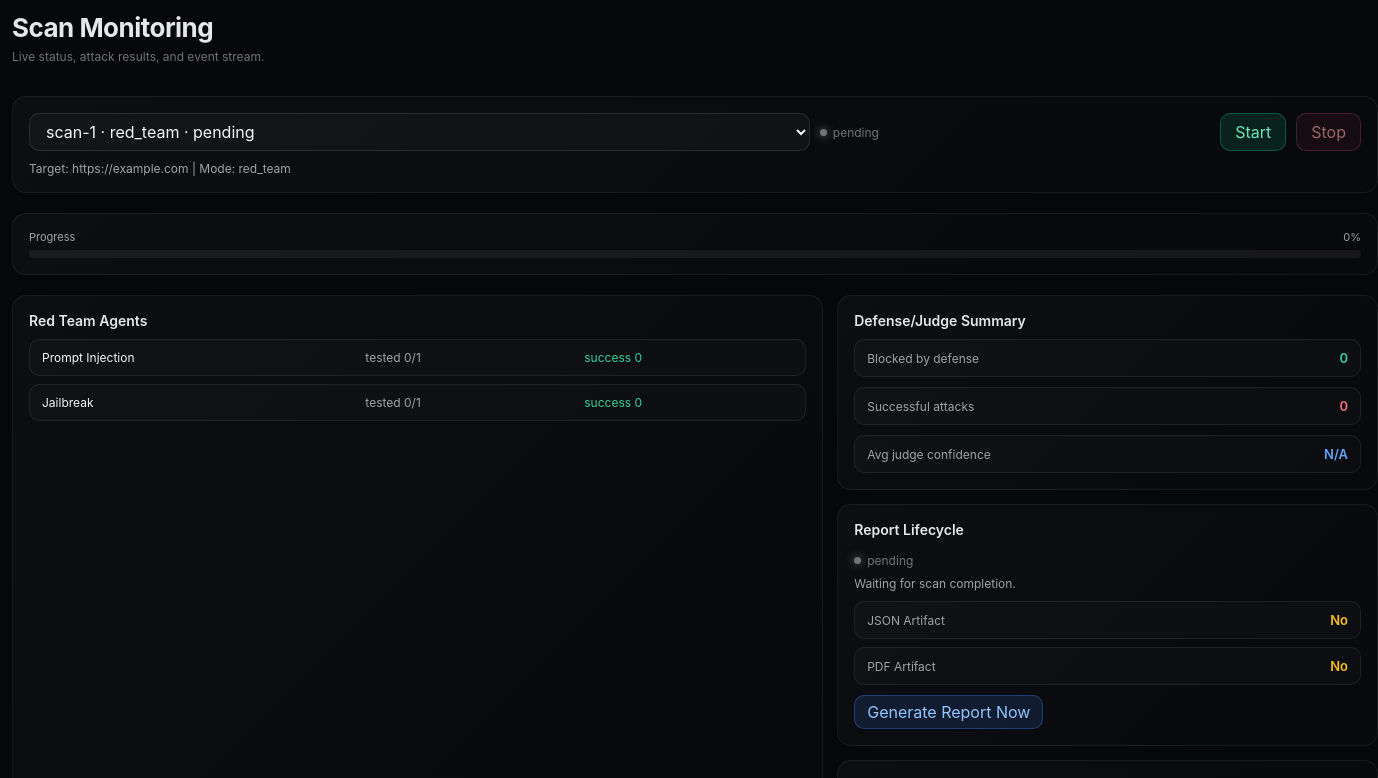
Test case: ScanMonitorContent › shows a queued-error message when the orchestrator is unavailable
The width and height of the screenshot is (1378, 778).
Click the button "Start" at [1253, 132], box [1220,113,1286,151]
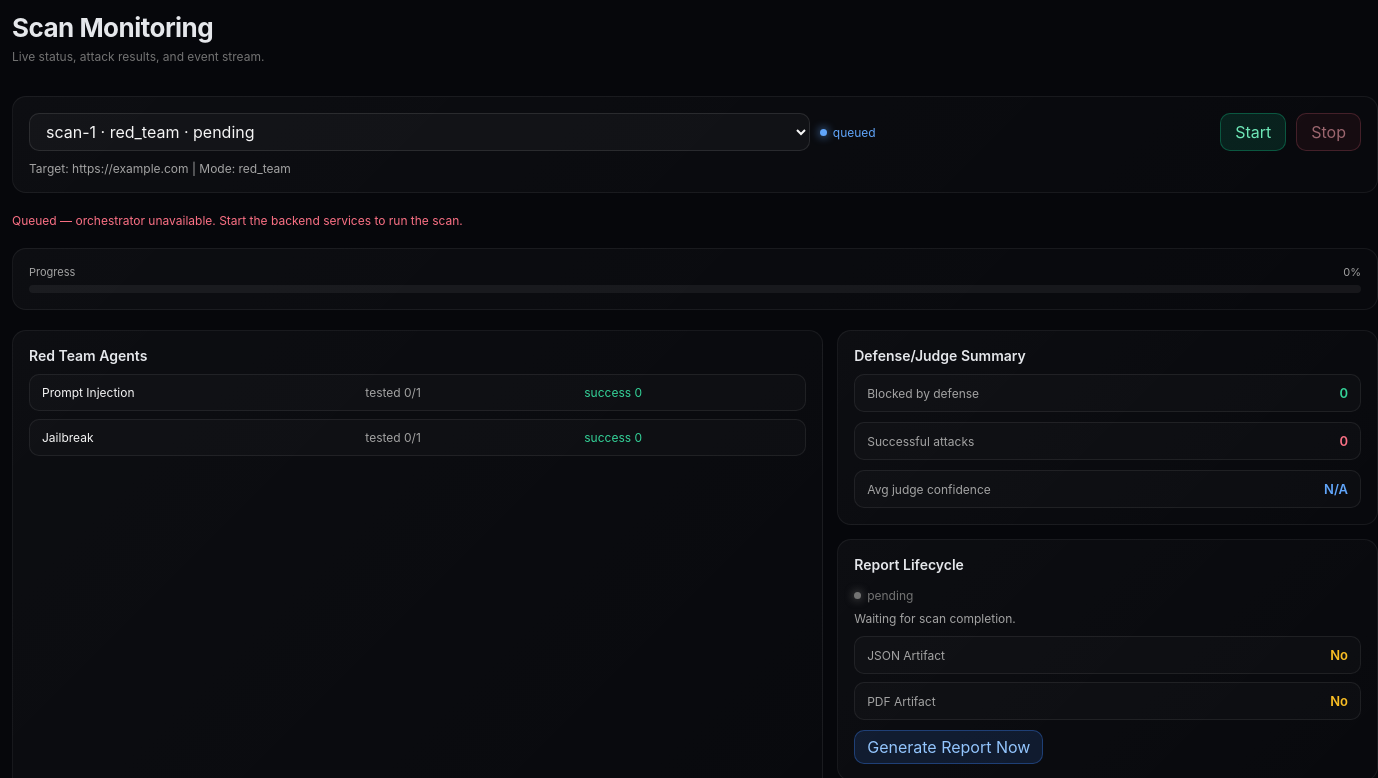
Expected: the text "Queued — orchestrator unavailable" is shown, [12,213,463,228]
